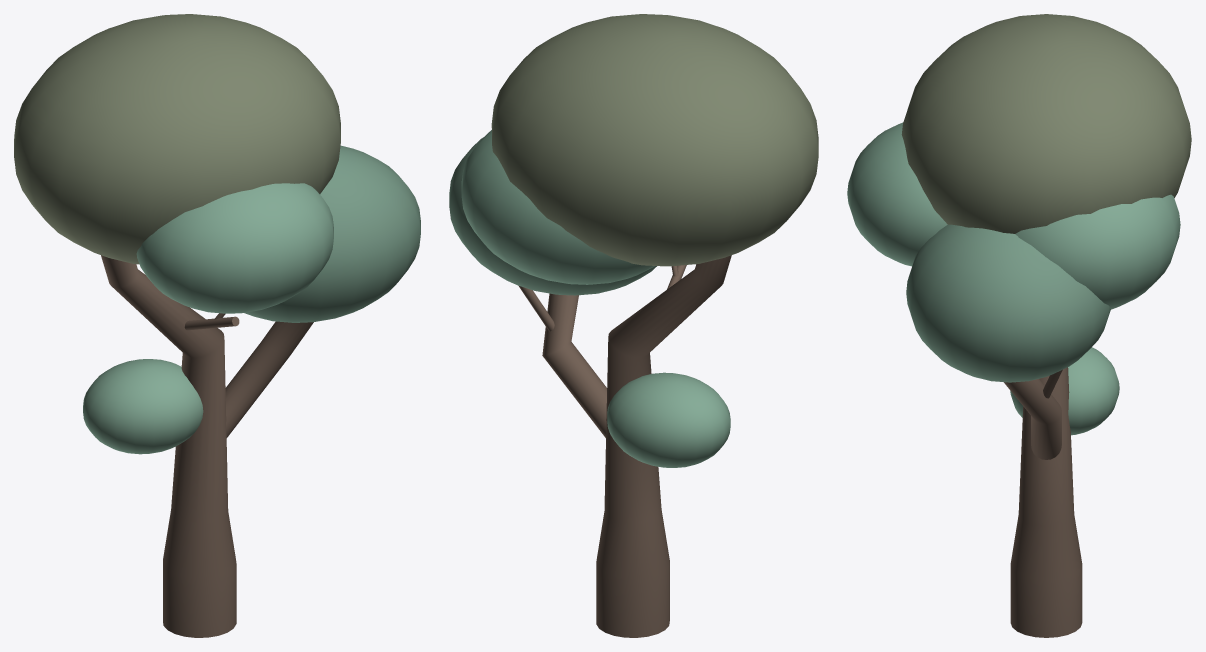
Rendered from Floor_Park_Tree.fbx.
3 renders of one model, left to right at view 1: azimuth 30°, elevation 25°; view 2: azimuth 150°, elevation 25°; view 3: azimuth 270°, elevation 25°, orthographic. The views are drawn at different scales.
Visible parts, largest first — view 1: pCylinder7; view 2: pCylinder7; view 3: pCylinder7.
Boxes of the visible parts, x1=… form: pCylinder7: x1=14, y1=14, x2=420, y2=637; pCylinder7: x1=449, y1=14, x2=818, y2=637; pCylinder7: x1=847, y1=14, x2=1191, y2=637.
Bounding box in the file's own units: 163 × 257 × 139.
1 material, 1 textured.
